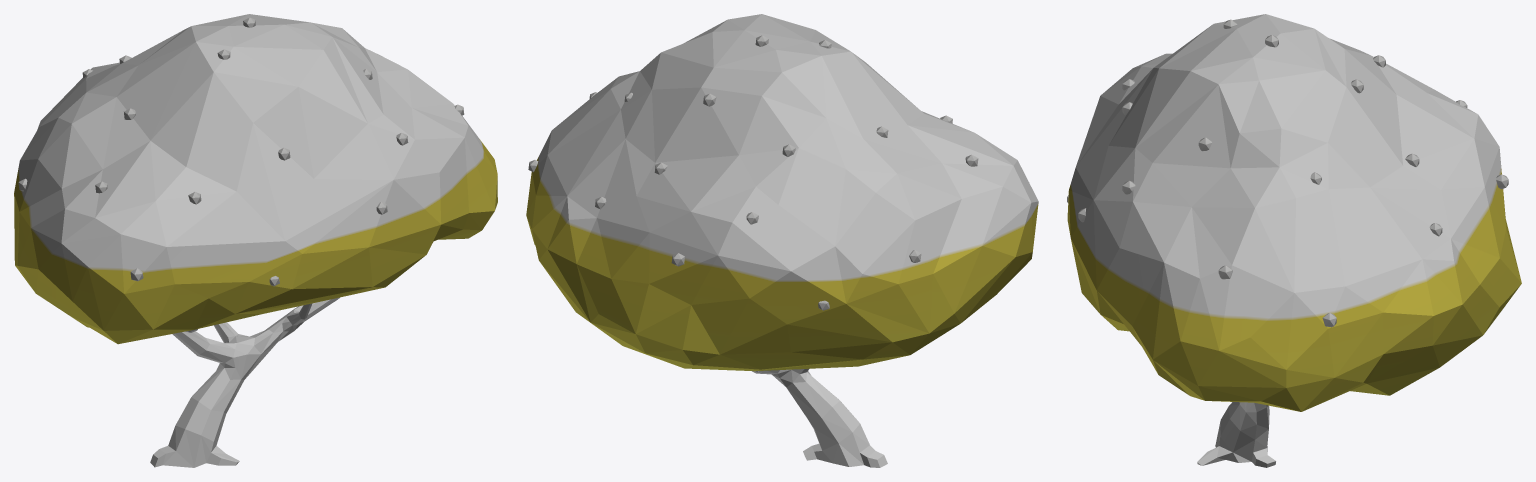
The model's file is AppleTree_04.fbx.
3 views of the same model, side by side, from view 1: azimuth 30°, elevation 25°; view 2: azimuth 150°, elevation 25°; view 3: azimuth 270°, elevation 25° (orthographic). The views are drawn at different scales.
Parts seen in each view (by area): view 1: AppleTree_04; view 2: AppleTree_04; view 3: AppleTree_04.
Boxes of the visible parts, x1,y1,x2,y2 form: AppleTree_04: (14, 14, 497, 467); AppleTree_04: (526, 14, 1038, 467); AppleTree_04: (1067, 14, 1521, 467).
Size of the model in its own units: 6.5 by 5.62 by 5.09.
